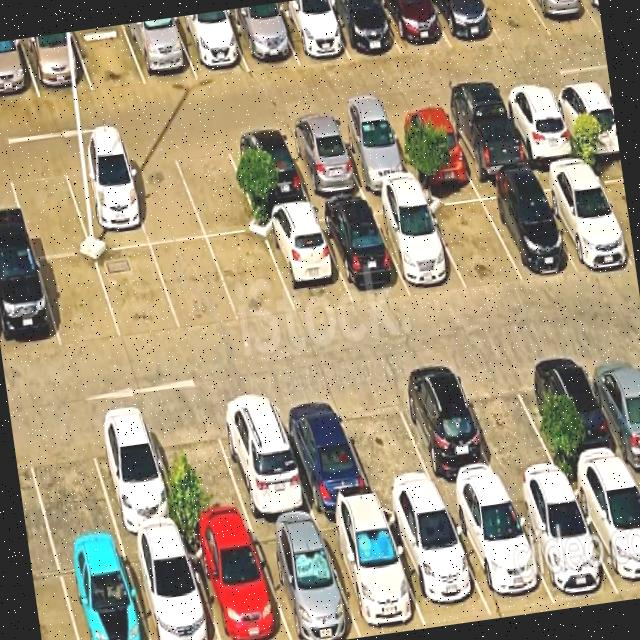empty: (456, 359, 563, 487), (147, 406, 251, 533), (333, 380, 440, 502), (22, 419, 119, 551), (423, 188, 522, 289), (172, 136, 260, 237), (120, 146, 206, 245), (7, 160, 91, 258), (95, 245, 181, 340), (152, 239, 239, 331), (208, 232, 296, 322), (38, 254, 121, 349), (73, 25, 146, 91), (588, 161, 635, 262), (479, 0, 551, 45)
occupied: (391, 368, 504, 498), (316, 507, 426, 637), (506, 481, 619, 605), (444, 489, 555, 615), (382, 501, 492, 626), (211, 391, 314, 523), (250, 518, 361, 640), (84, 411, 184, 540), (528, 350, 629, 477), (272, 389, 375, 513), (185, 526, 291, 640), (533, 165, 635, 270), (122, 534, 219, 640), (476, 179, 575, 280), (260, 208, 352, 315), (315, 200, 409, 303), (568, 468, 640, 601), (369, 195, 466, 293), (56, 543, 149, 640), (62, 153, 150, 252), (440, 97, 530, 180), (581, 344, 640, 467), (225, 129, 311, 213), (281, 121, 365, 203), (332, 114, 416, 193), (387, 106, 473, 182), (499, 87, 581, 166), (0, 256, 61, 358), (549, 80, 620, 157), (173, 10, 250, 79), (272, 0, 350, 65), (124, 18, 197, 85), (226, 4, 298, 71), (21, 32, 93, 98), (324, 0, 401, 59), (379, 0, 451, 55), (431, 0, 502, 48), (0, 39, 40, 103), (531, 0, 600, 36), (583, 0, 602, 28)
